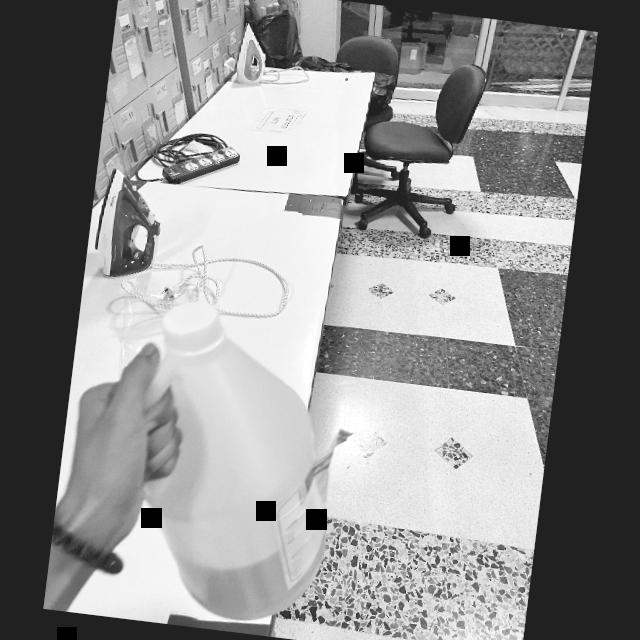chemical_plastic_gallon: (74, 294, 383, 636)
